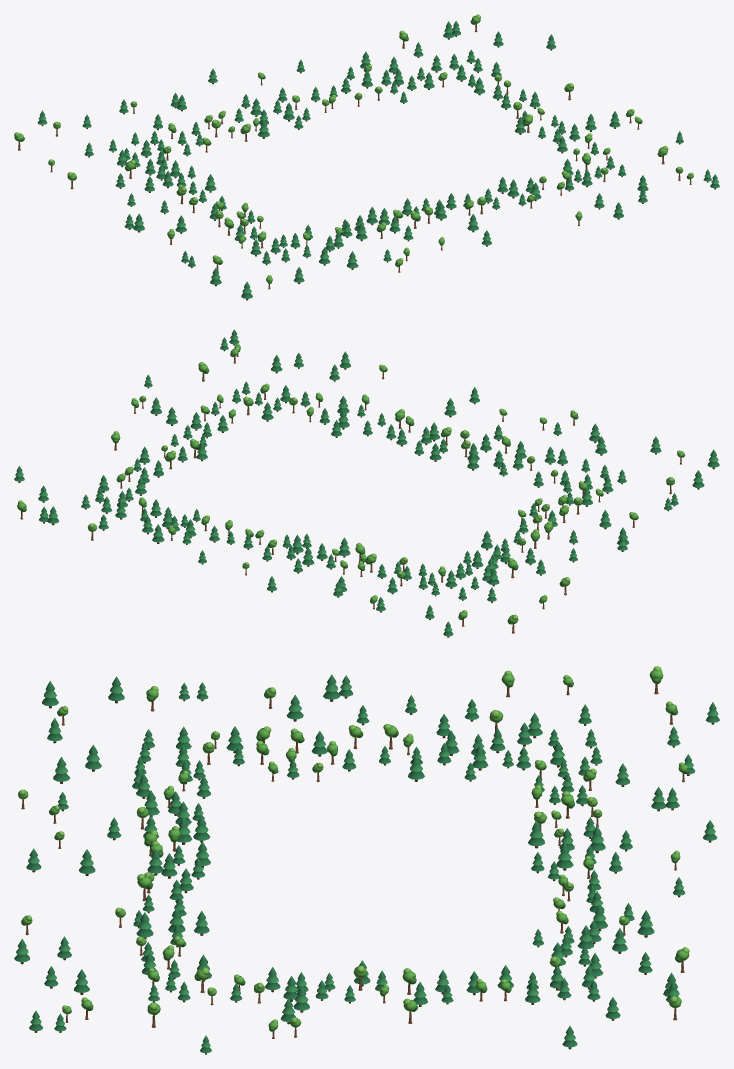
Rendered from level_1_forest.glb.
3 views of the same model, one above another, from view 1: azimuth 30°, elevation 25°; view 2: azimuth 150°, elevation 25°; view 3: azimuth 270°, elevation 25° (orthographic). The views are drawn at different scales.
Visible parts, largest first — view 1: Ring_1_m2, Ring_m1_m2, Ring_m1_1, Ring_m2_m2, Ring_1_1, Ring_m2_1, Ring_0_1, Ring_m2_m1, Ring_0_m2, Ring_m2_0, Ring_1_0, Ring_m3_0 (+5 smaller); view 2: Ring_m1_1, Ring_m1_m2, Ring_1_m2, Ring_1_1, Ring_0_1, Ring_m2_1, Ring_m2_m2, Ring_m2_0, Ring_m2_m1, Ring_0_m2, Ring_1_0, Ring_1_m1 (+5 smaller); view 3: Ring_m1_1, Ring_1_m2, Ring_m1_m2, Ring_m2_m2, Ring_0_1, Ring_m2_1, Ring_1_1, Ring_m2_m1, Ring_m2_0, Ring_0_m2, Ring_m3_0, Ring_1_0 (+8 smaller).
Boxes of the visible parts, x1=… form: Ring_1_m2: x1=360, y1=42, x2=482, y2=103; Ring_m1_m2: x1=204, y1=87, x2=310, y2=141; Ring_m1_1: x1=341, y1=198, x2=446, y2=241; Ring_m2_m2: x1=131, y1=95, x2=211, y2=164; Ring_1_1: x1=525, y1=152, x2=648, y2=195; Ring_m2_1: x1=258, y1=221, x2=352, y2=265; Ring_0_1: x1=446, y1=176, x2=541, y2=232; Ring_m2_m1: x1=145, y1=158, x2=216, y2=202; Ring_0_m2: x1=292, y1=64, x2=382, y2=112; Ring_m2_0: x1=209, y1=196, x2=263, y2=241; Ring_1_0: x1=515, y1=114, x2=580, y2=161; Ring_m3_0: x1=124, y1=197, x2=233, y2=244; Ring_m1_1: x1=414, y1=422, x2=526, y2=476; Ring_m1_m2: x1=262, y1=533, x2=376, y2=576; Ring_1_m2: x1=95, y1=487, x2=200, y2=543; Ring_1_1: x1=232, y1=354, x2=329, y2=424; Ring_0_1: x1=331, y1=394, x2=456, y2=446; Ring_m2_1: x1=512, y1=436, x2=609, y2=498; Ring_m2_m2: x1=338, y1=557, x2=465, y2=596; Ring_m2_0: x1=518, y1=487, x2=592, y2=534; Ring_m2_m1: x1=463, y1=530, x2=525, y2=575; Ring_0_m2: x1=168, y1=515, x2=276, y2=554; Ring_1_0: x1=183, y1=409, x2=235, y2=461; Ring_1_m1: x1=116, y1=445, x2=187, y2=495; Ring_m1_1: x1=107, y1=790, x2=210, y2=879; Ring_1_m2: x1=526, y1=910, x2=654, y2=1000; Ring_m1_m2: x1=528, y1=791, x2=632, y2=881; Ring_m2_m2: x1=516, y1=741, x2=665, y2=811; Ring_0_1: x1=79, y1=849, x2=209, y2=938; Ring_m2_1: x1=85, y1=742, x2=214, y2=815; Ring_1_1: x1=74, y1=924, x2=211, y2=1002; Ring_m2_m1: x1=379, y1=728, x2=513, y2=781; Ring_m2_0: x1=226, y1=726, x2=356, y2=781; Ring_0_m2: x1=553, y1=856, x2=634, y2=935; Ring_m3_0: x1=256, y1=674, x2=369, y2=749; Ring_1_0: x1=234, y1=960, x2=370, y2=1001.
Bounding box in the file's own units: 57.94 × 2.94 × 47.77.
Materials: 1 (1 with a texture image).
